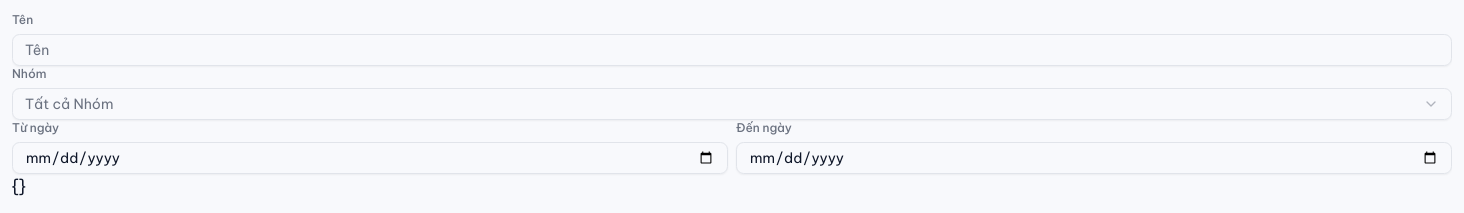
Scenario: CrudFilterFields › renders an accessible two-input date range using the public filter keys
Type "2026-07-01" into the date field labelled "Từ ngày".
click(370, 158); type("2026-07-01")  # box [12,142,728,174]
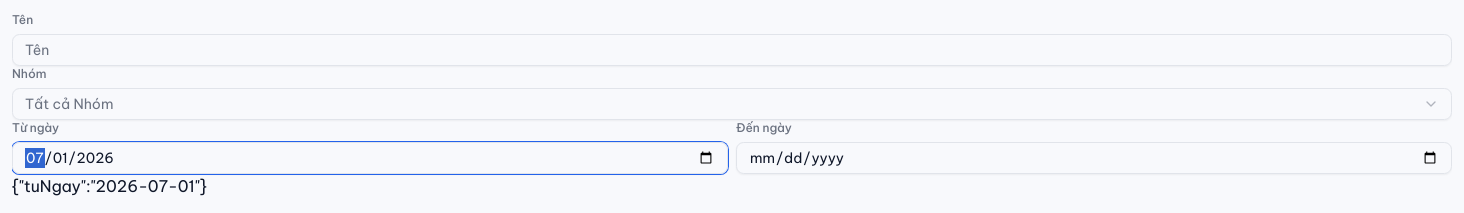
Type "2026-07-15" into the date field labelled "Đến ngày".
click(1094, 158); type("2026-07-15")  # box [736,142,1452,174]
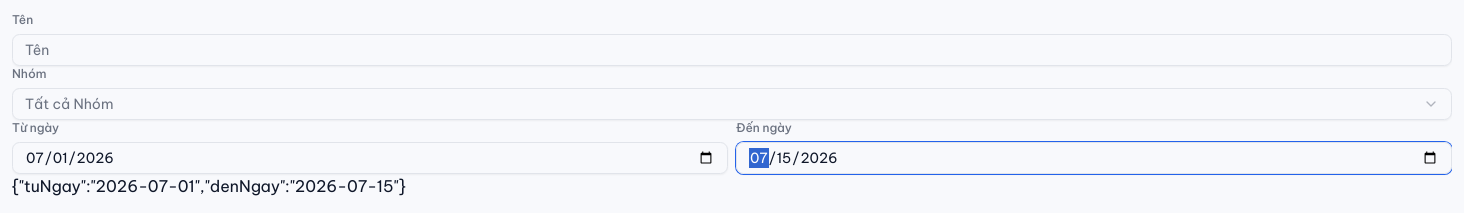
Check: the text with test id "filter-value" shows "\"tuNgay\":\"2026-07-01\"", box [12,176,406,196]
Check: the text with test id "filter-value" shows "\"denNgay\":\"2026-07-15\"", box [12,176,406,196]
